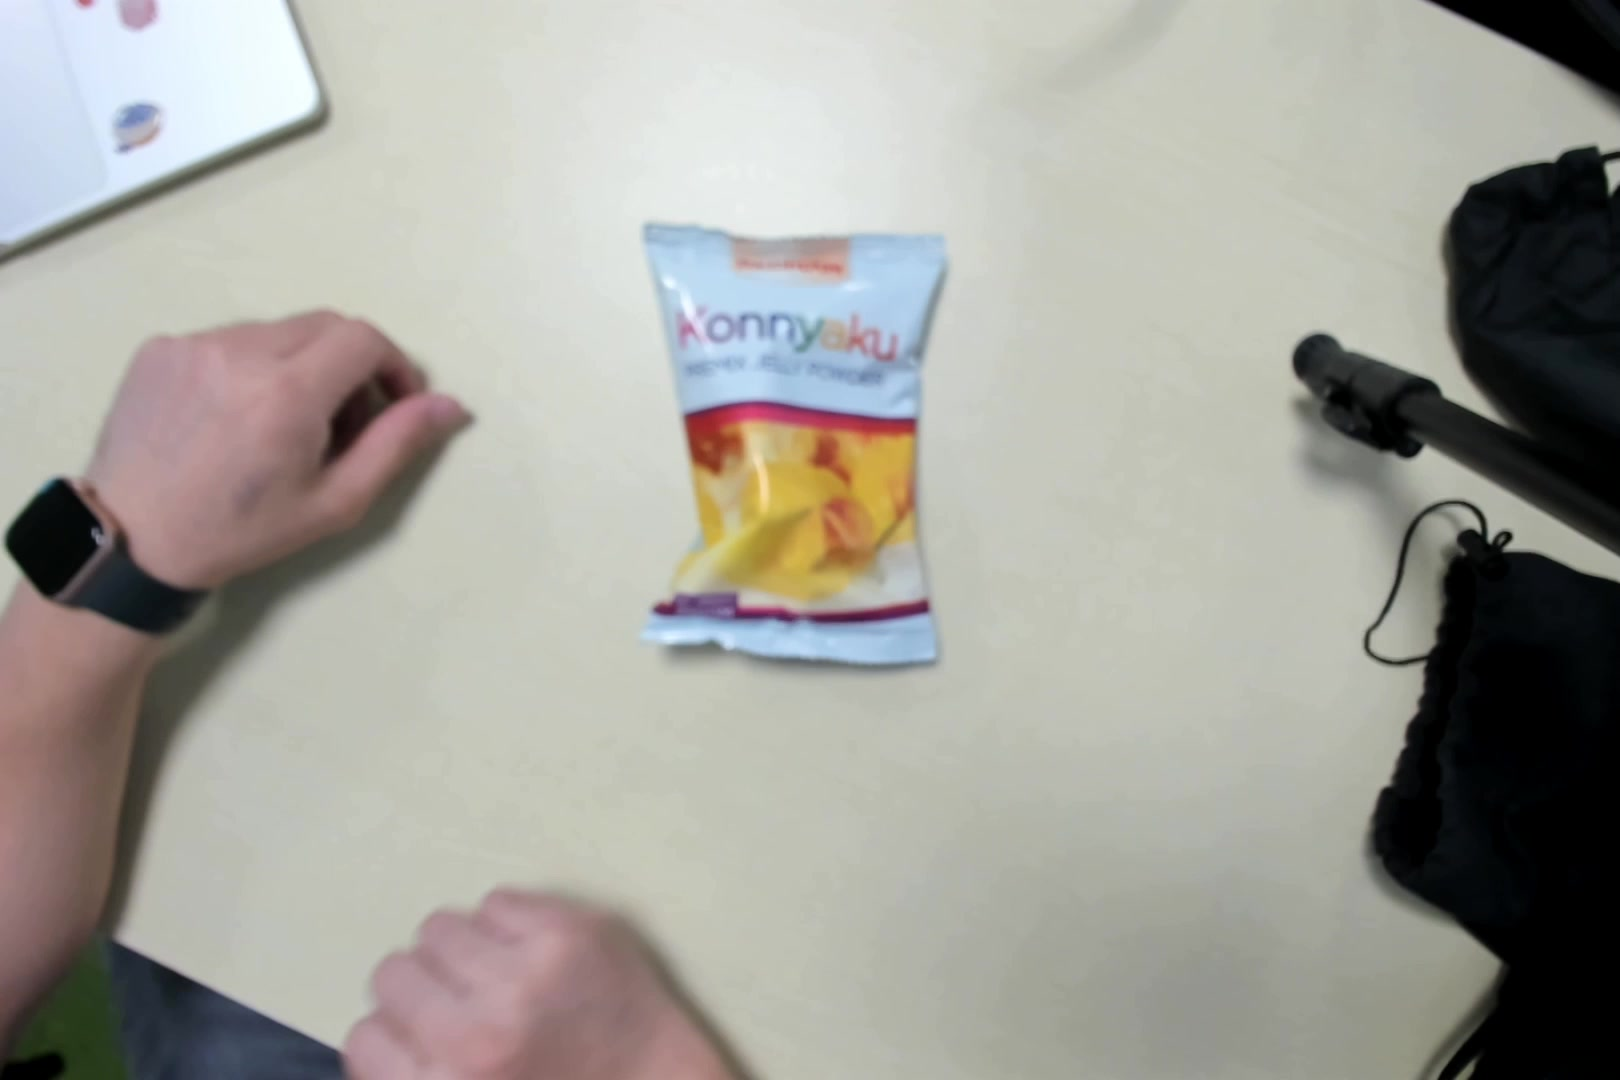OtherBakingNeeds_200-299g_Halal_NonHealthy: (639, 218, 949, 668)
